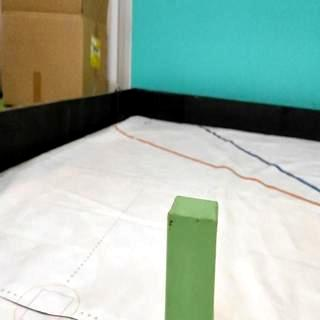greenbox: (166, 193, 220, 320)
